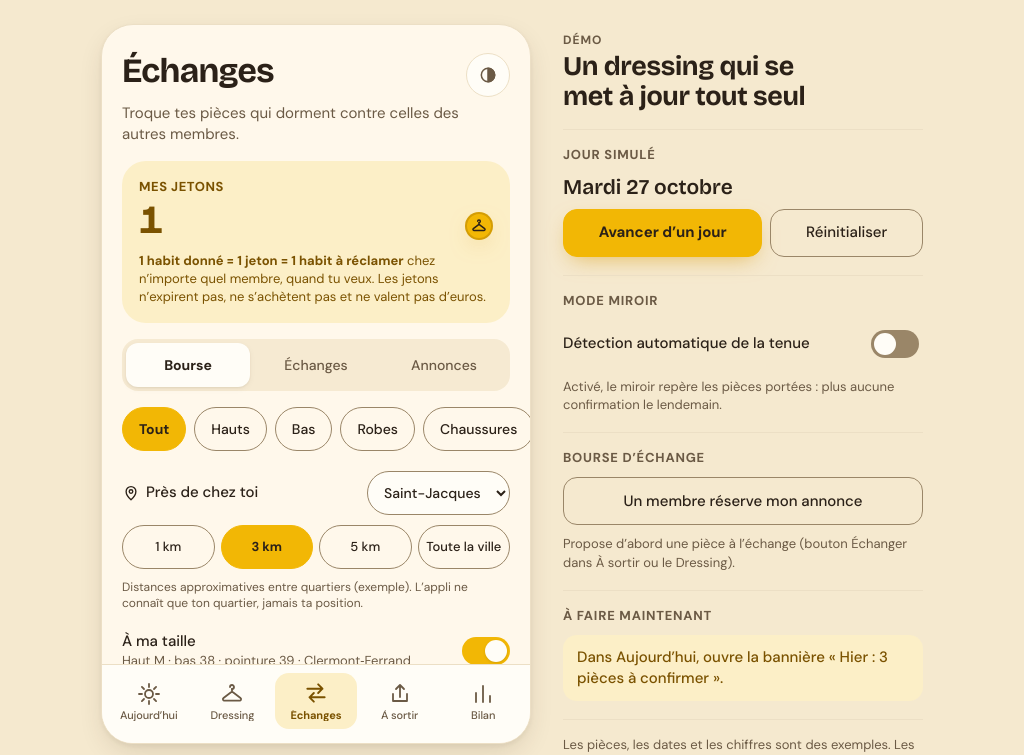
it: bourse d’échange simulée › filtre par distance autour de mon quartier, les plus proches d’abord
Click the switch labelled "À ma taille Haut M · bas 38 · pointure 39 · Clermont‑Ferrand" at (316,651), box top-left (122, 627), bottom-right (510, 675)
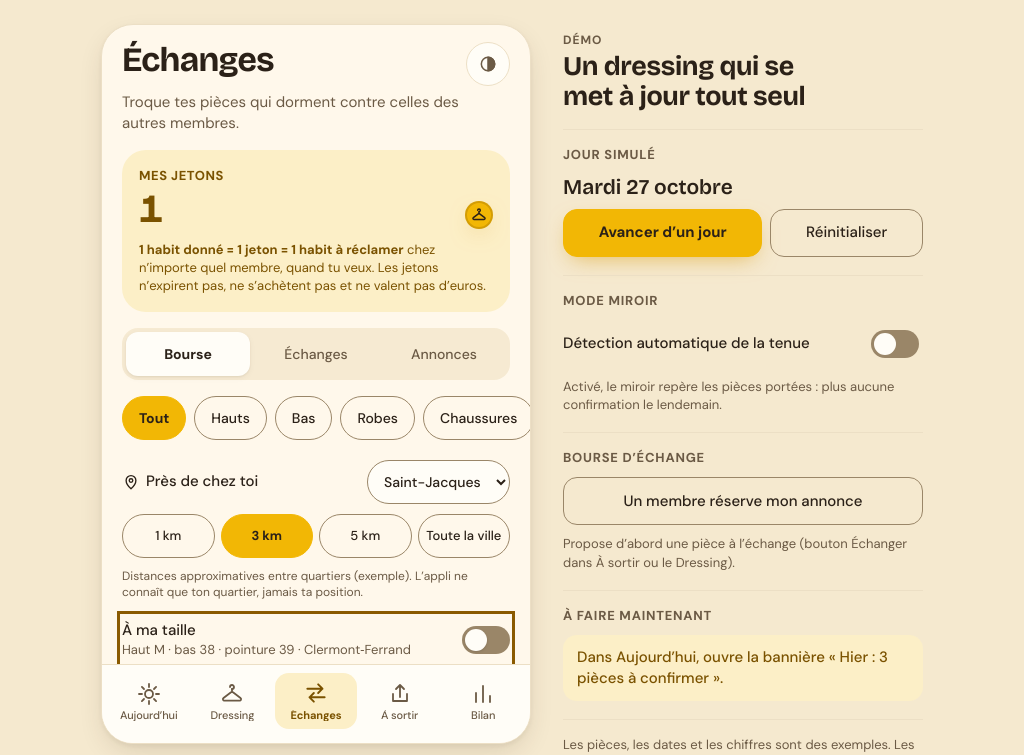
Expected: the text "Baskets en toile écrue" is not shown
Click the button "1 km" at (168,536), box top-left (122, 514), bottom-right (214, 558)
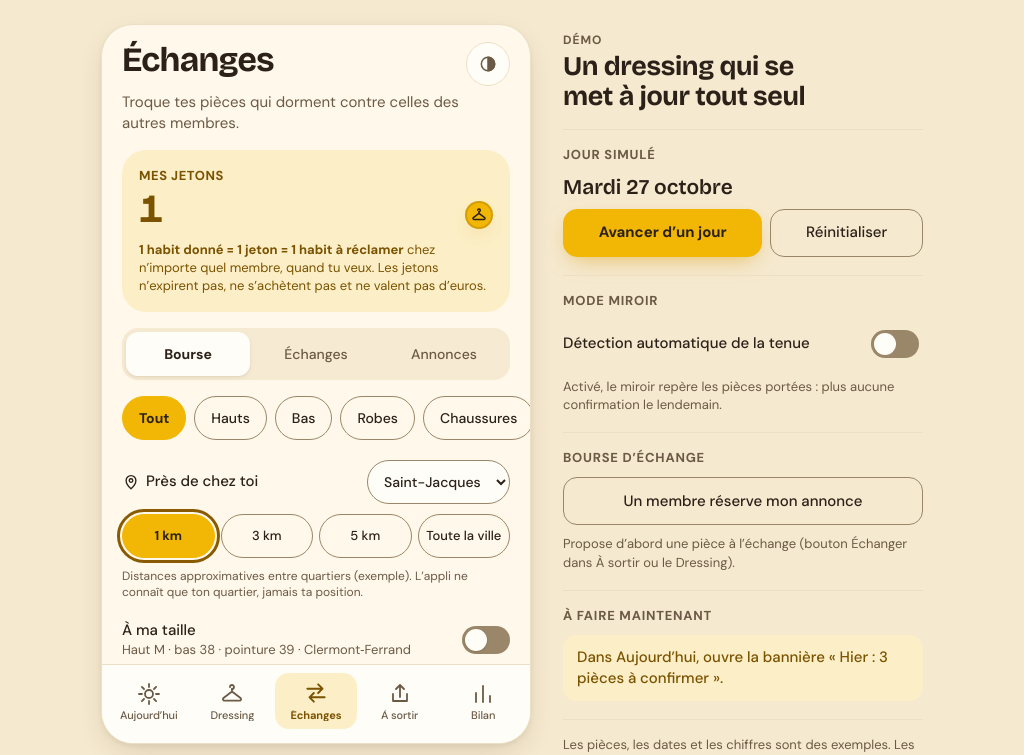
Expected: the text "Pull marin rayé" is not shown
Click the button "5 km" at (365,536), box top-left (319, 514), bottom-right (412, 558)
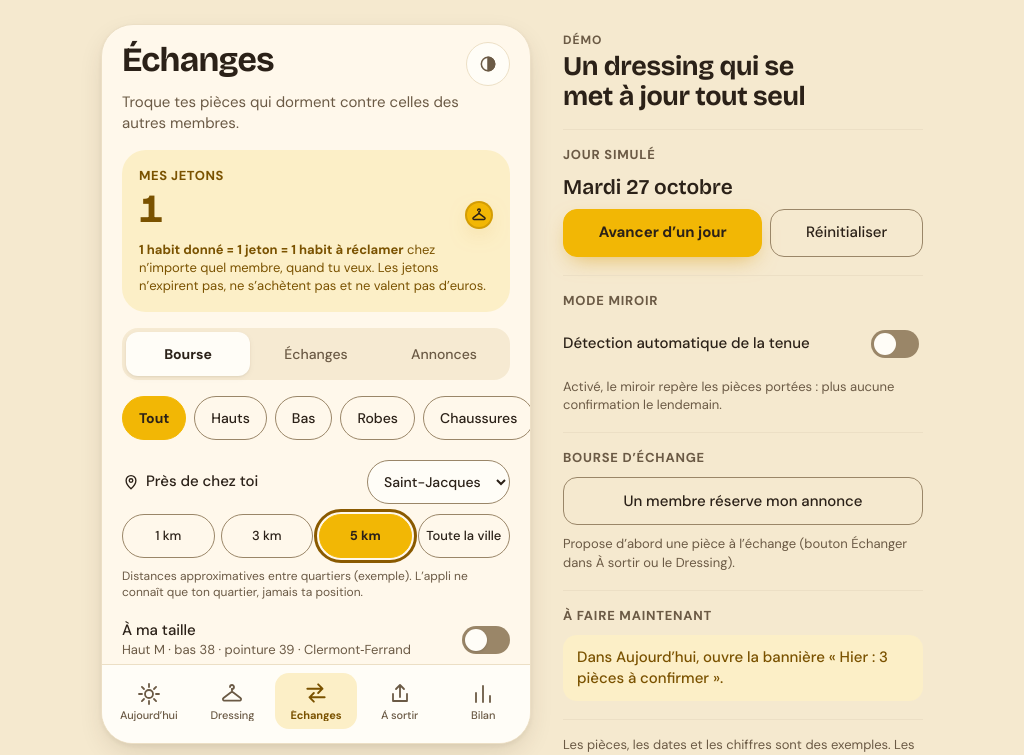
Select "Chamalières" in the dropdown named "Mon quartier" at (438,482), box top-left (367, 460), bottom-right (510, 504)
(page scrolled)
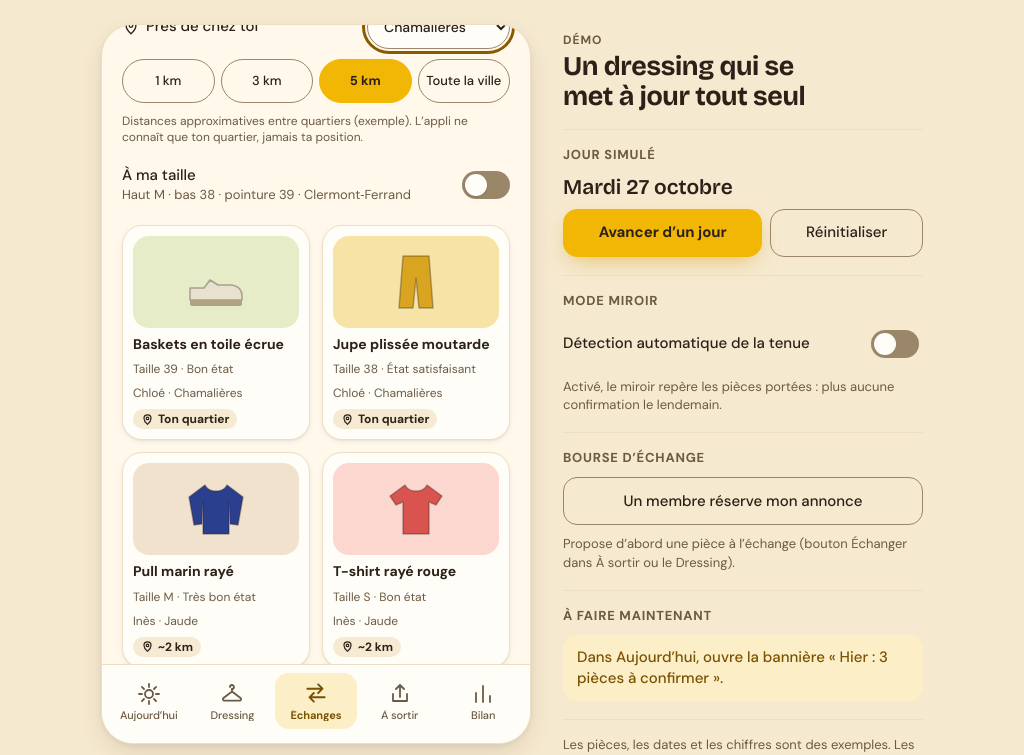
Now the text "Baskets en toile écrue" is shown, box top-left (133, 336), bottom-right (299, 353)
